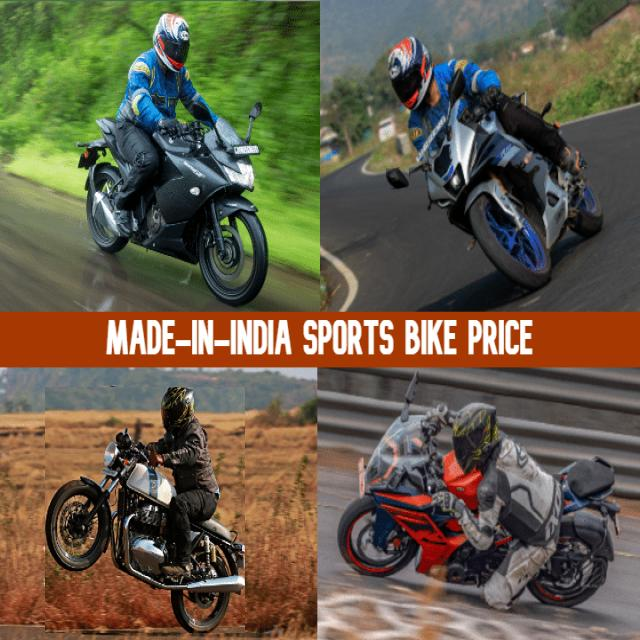accident: (338, 372, 619, 610)
motorcycle: (78, 13, 268, 306), (389, 37, 601, 289), (45, 387, 245, 633), (386, 169, 409, 188)
